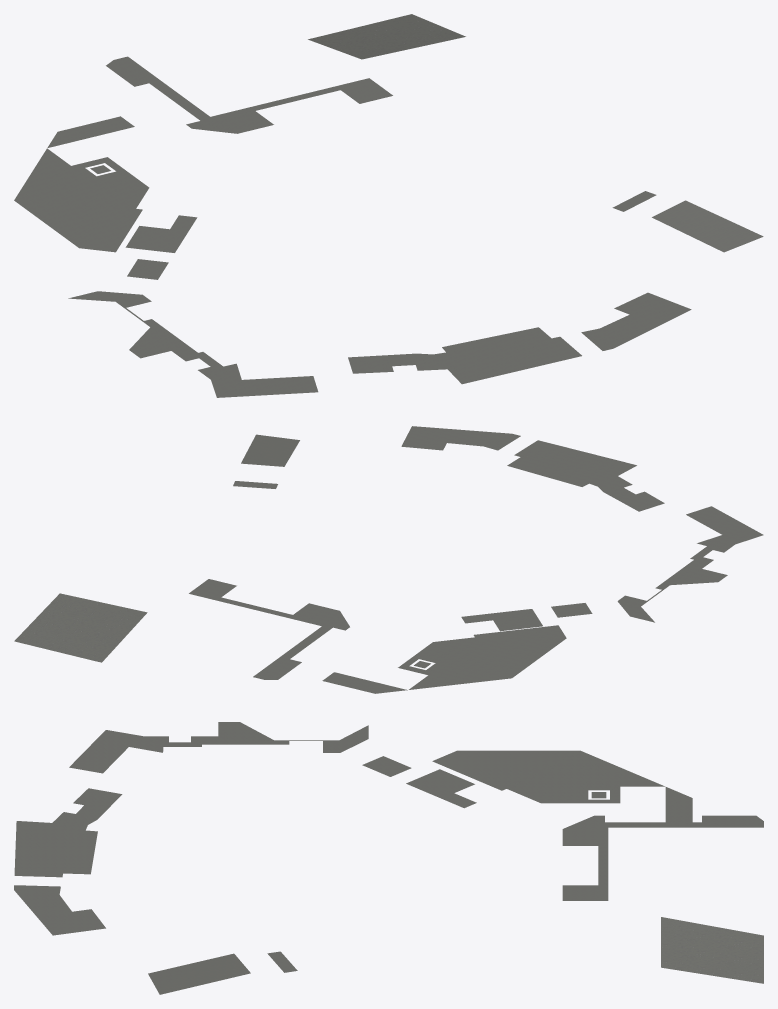
Rendered from kd_stage_135ebf_0_22_bounded.glb.
The picture shows the model from 3 angles, top to bottom: view 1: azimuth 30°, elevation 25°; view 2: azimuth 150°, elevation 25°; view 3: azimuth 270°, elevation 25°; orthographic projection. The views are drawn at different scales.
Visible parts, largest first — view 1: kd_stage_135ebf_0_22_bounded; view 2: kd_stage_135ebf_0_22_bounded; view 3: kd_stage_135ebf_0_22_bounded.
Part boxes in pixels (left/top/right/bottom): kd_stage_135ebf_0_22_bounded: left=14, top=14, right=763, bottom=397; kd_stage_135ebf_0_22_bounded: left=14, top=426, right=763, bottom=693; kd_stage_135ebf_0_22_bounded: left=14, top=722, right=763, bottom=994.
Size of the model in its own units: 18.94 by 0.8196 by 22.
1 material, 1 textured.
